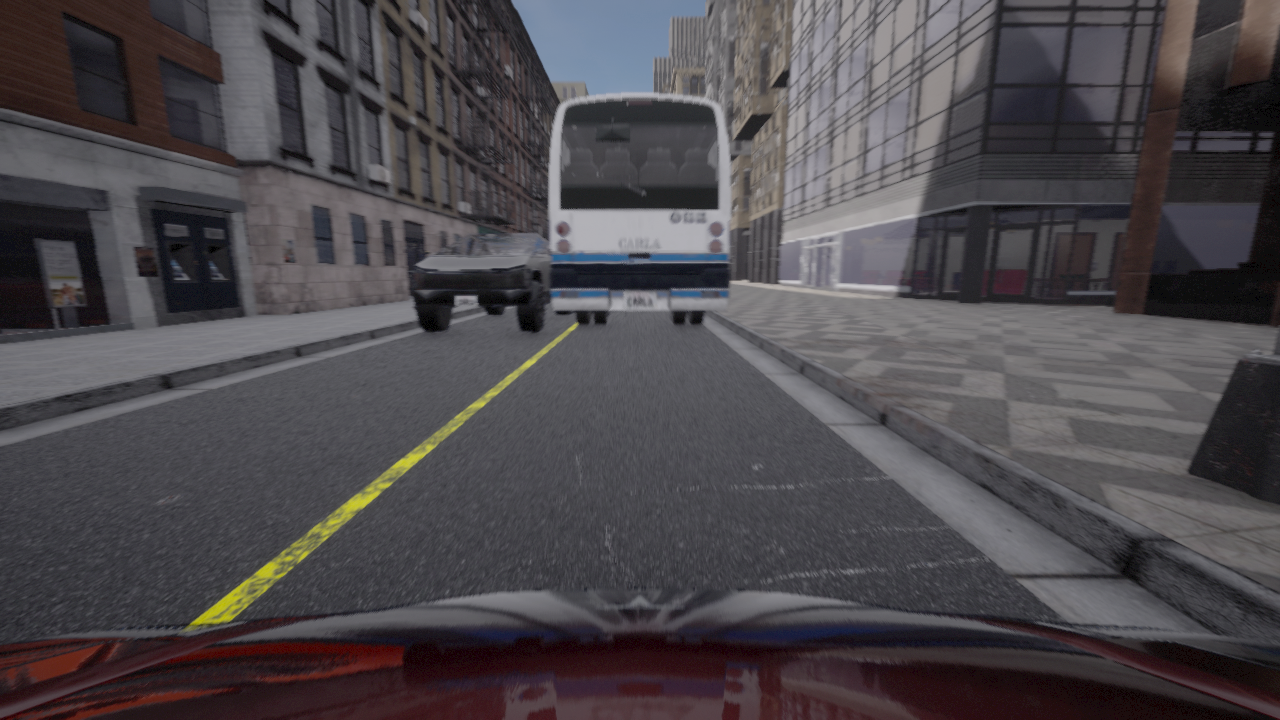cyclist: (0, 588, 1279, 719), (550, 93, 729, 324), (413, 234, 572, 332)
